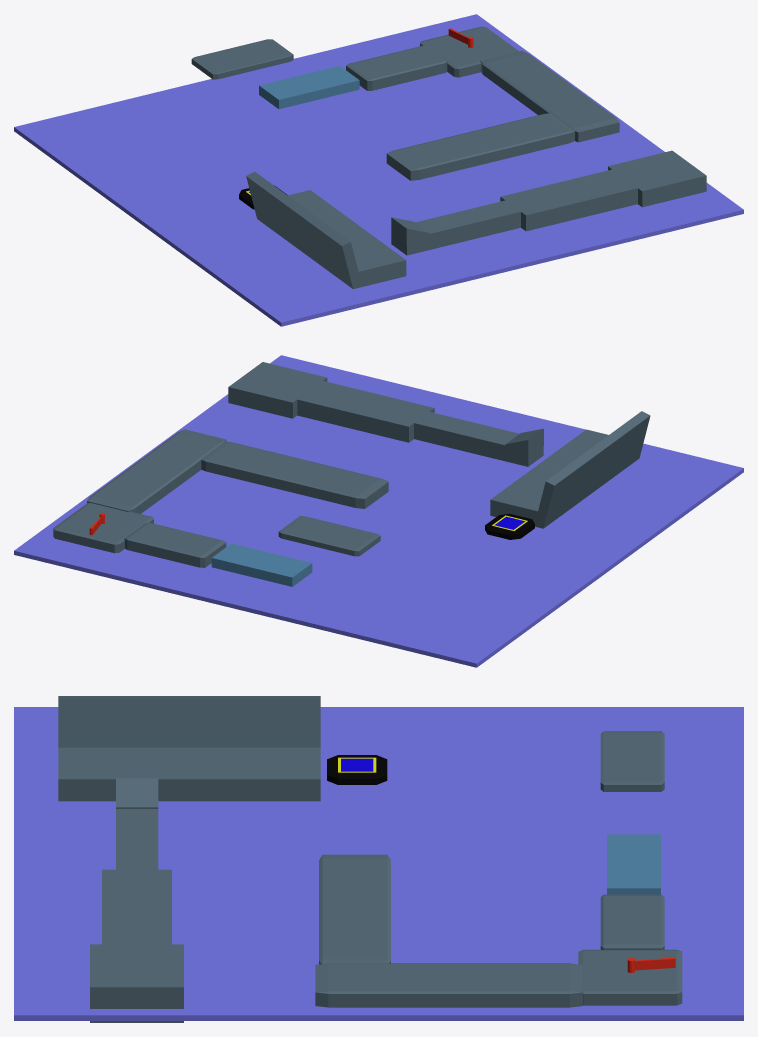
The model's file is チュートリアルステージ.fbx.
3 views of the same model, one above another, from view 1: azimuth 30°, elevation 25°; view 2: azimuth 150°, elevation 25°; view 3: azimuth 270°, elevation 25° (orthographic). The views are drawn at different scales.
Parts seen in each view (by area): view 1: Cube, 立方体.007, 立方体.008, 立方体.005, 立方体.003, 立方体, 立方体.004, 立方体.001, 立方体.010, 立方体.011, 立方体.009, 立方体.012 (+1 smaller); view 2: Cube, 立方体.007, 立方体.008, 立方体.005, 立方体.003, 立方体, 立方体.001, 立方体.004, 立方体.009, 立方体.010, 立方体.011, 立方体.012 (+2 smaller); view 3: Cube, 立方体.005, 立方体.004, 立方体.008, 立方体.007, 立方体.001, 立方体.003, 立方体.009, 立方体.012, 立方体.010, 立方体.011, 立方体 (+3 smaller).
Part boxes in pixels (left/top/right/bottom): Cube: left=14, top=14, right=743, bottom=326; 立方体.007: left=386, top=113, right=574, bottom=180; 立方体.008: left=480, top=50, right=619, bottom=142; 立方体.005: left=246, top=171, right=362, bottom=289; 立方体.003: left=500, top=169, right=637, bottom=231; 立方体: left=391, top=200, right=521, bottom=255; 立方体.004: left=288, top=190, right=406, bottom=288; 立方体.001: left=608, top=150, right=706, bottom=207; 立方体.010: left=346, top=46, right=447, bottom=90; 立方体.011: left=259, top=65, right=359, bottom=109; 立方体.009: left=420, top=26, right=518, bottom=77; 立方体.012: left=191, top=39, right=293, bottom=79; Cube: left=14, top=355, right=743, bottom=667; 立方体.007: left=201, top=441, right=388, bottom=508; 立方体.008: left=87, top=429, right=226, bottom=513; 立方体.005: left=538, top=411, right=650, bottom=528; 立方体.003: left=295, top=381, right=434, bottom=442; 立方体: left=414, top=411, right=543, bottom=466; 立方体.001: left=228, top=362, right=327, bottom=418; 立方体.004: left=490, top=429, right=608, bottom=527; 立方体.009: left=53, top=503, right=153, bottom=553; 立方体.010: left=124, top=522, right=226, bottom=567; 立方体.011: left=211, top=543, right=312, bottom=586; 立方体.012: left=278, top=516, right=380, bottom=556; Cube: left=14, top=707, right=743, bottom=1020; 立方体.005: left=58, top=696, right=320, bottom=747; 立方体.004: left=58, top=747, right=320, bottom=801; 立方体.008: left=315, top=963, right=582, bottom=1007; 立方体.007: left=319, top=854, right=390, bottom=964; 立方体.001: left=90, top=944, right=183, bottom=1022; 立方体.003: left=102, top=869, right=171, bottom=944; 立方体.009: left=578, top=949, right=682, bottom=1005; 立方体.012: left=600, top=731, right=664, bottom=791; 立方体.010: left=600, top=894, right=664, bottom=949; 立方体.011: left=607, top=834, right=660, bottom=894; 立方体: left=116, top=809, right=158, bottom=869.
Size of the model in its own units: 15123 by 2067 by 15123.
